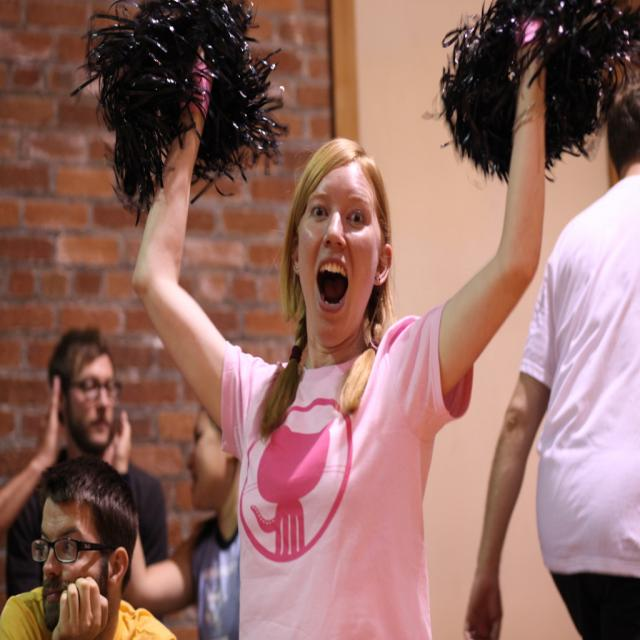Glasses: (31, 539, 113, 564), (70, 372, 121, 402)
